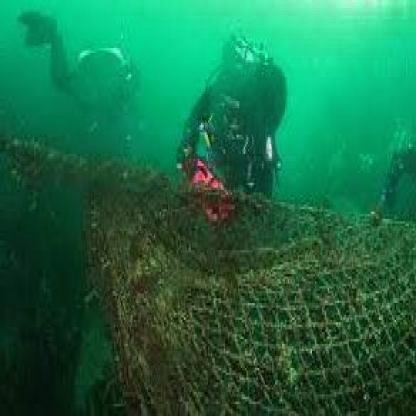net: (92, 183, 416, 416)
